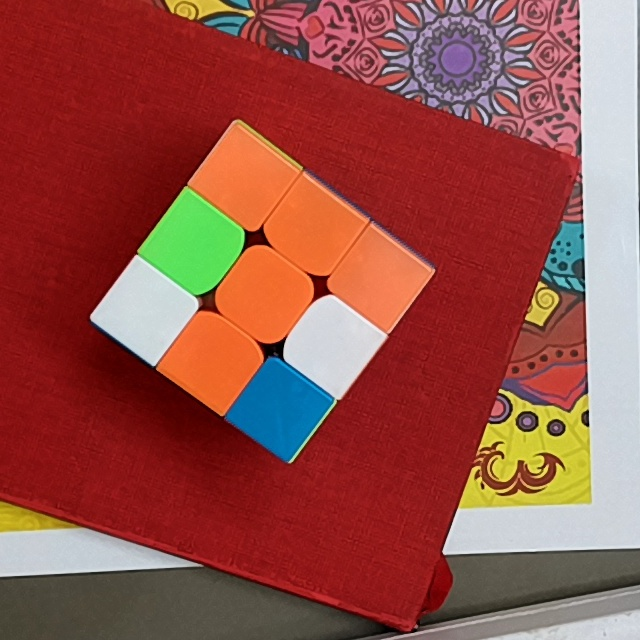tile: (236, 266, 294, 323), (305, 315, 360, 372), (215, 150, 273, 204), (169, 217, 222, 274), (182, 335, 240, 387), (284, 201, 340, 254), (119, 282, 172, 338), (353, 251, 407, 305), (250, 387, 309, 435)
